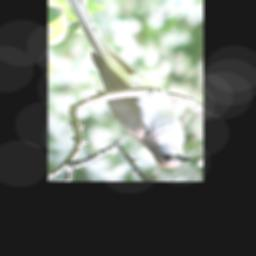Cuckoo: (61, 0, 191, 170)
